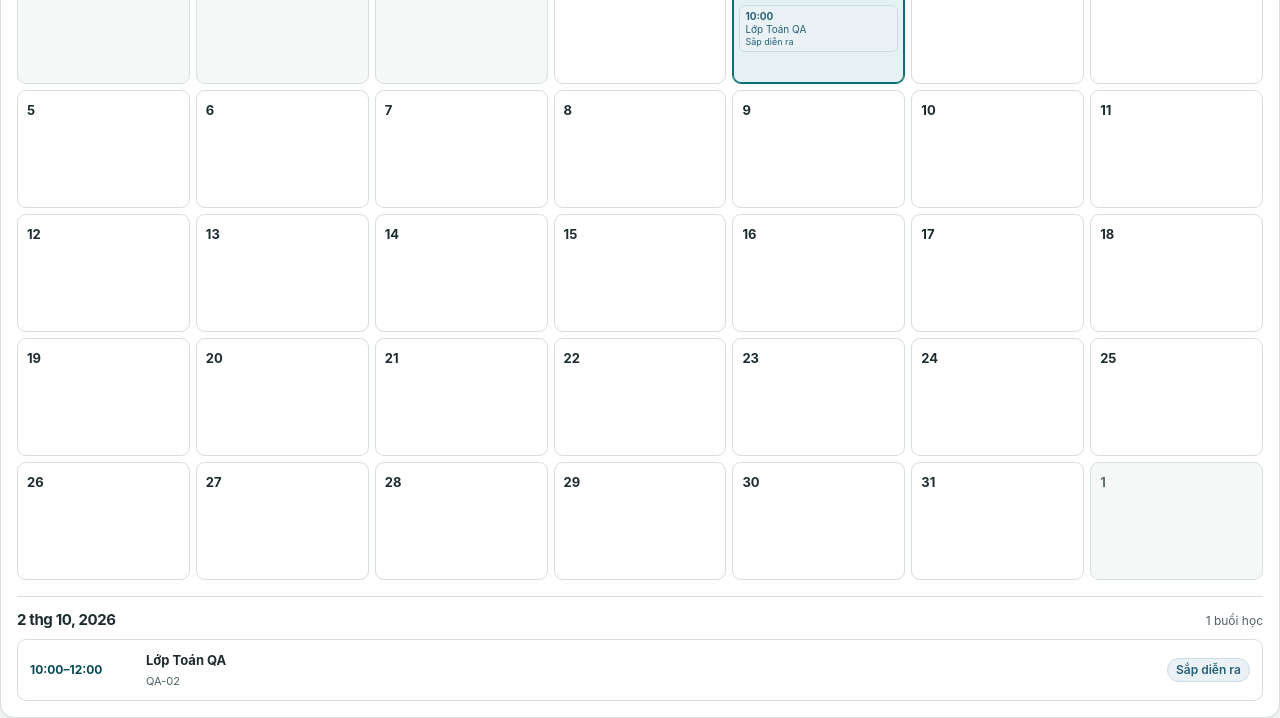
Test: StudentPage › shows a monthly calendar and the selected session details for a student or parent
(page scrolled)
Click the button with class "session-month__session-card" at {"x": 66, "y": 670}, box [17,639,1263,701]
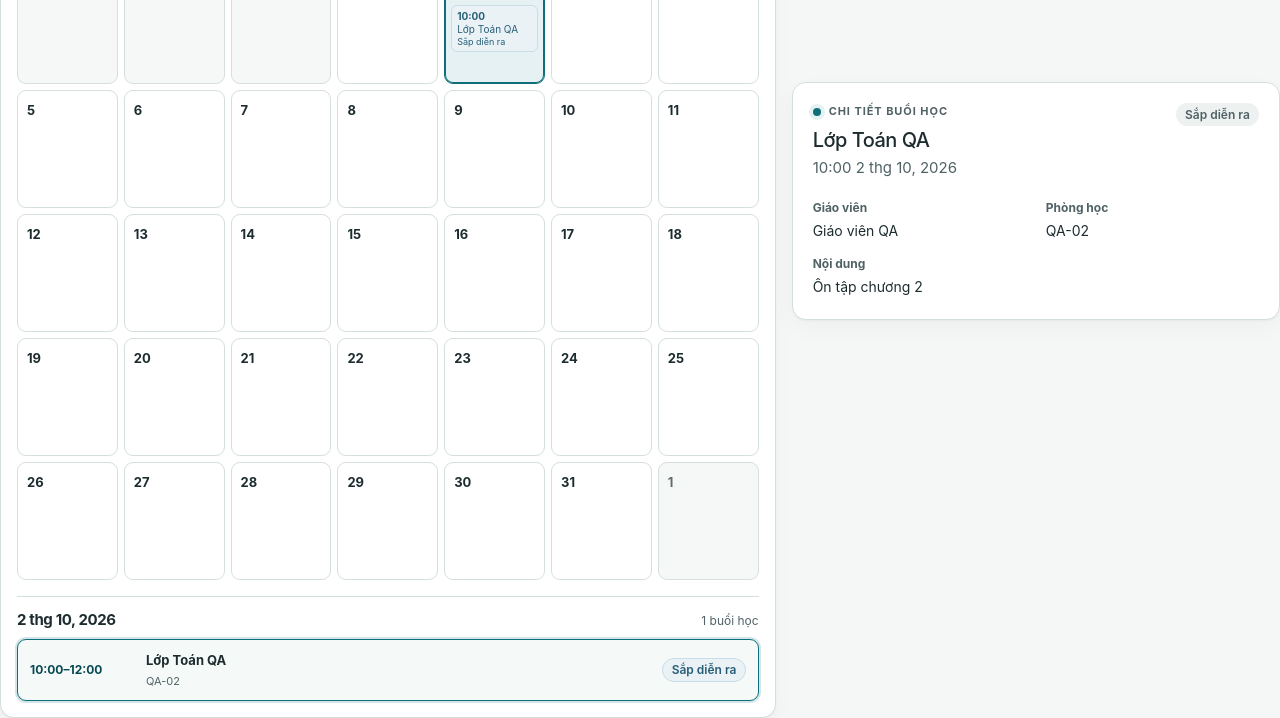
Expected: the element with class "student-schedule__detail" shows "Lớp Toán QA", [813,128,929,152]
Expected: the element with class "student-schedule__detail" shows "Giáo viên QA", [813,222,898,239]
Expected: the element with class "student-schedule__detail" shows "QA-02", [1046,222,1089,239]
